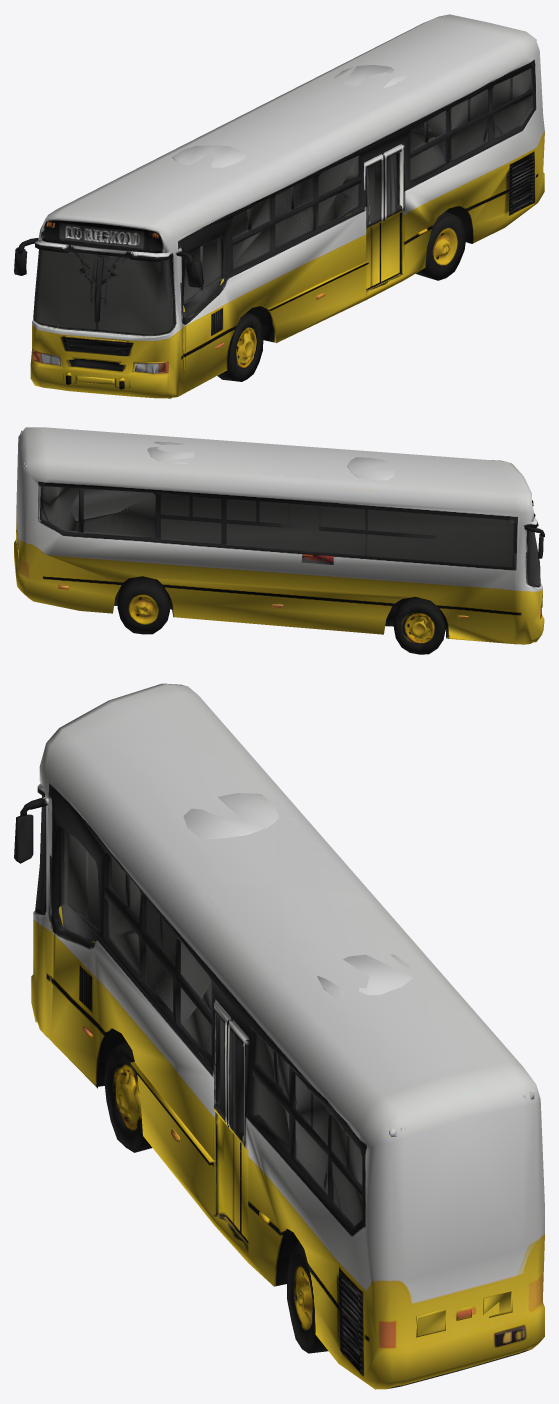
The model's file is bus.glb.
The picture shows the model from 3 angles, top to bottom: view 1: azimuth 30°, elevation 25°; view 2: azimuth 150°, elevation 25°; view 3: azimuth 270°, elevation 25°; orthographic projection. The views are drawn at different scales.
Visible parts, largest first — view 1: Yellow White Citybus; view 2: Yellow White Citybus; view 3: Yellow White Citybus.
Boxes of the visible parts, box(x1,y1,x2,y2) form: Yellow White Citybus: box(14, 14, 544, 398); Yellow White Citybus: box(14, 427, 544, 654); Yellow White Citybus: box(14, 683, 544, 1389).
Size of the model in its own units: 0.998 by 0.334 by 0.4824.
1 material, 1 textured.
